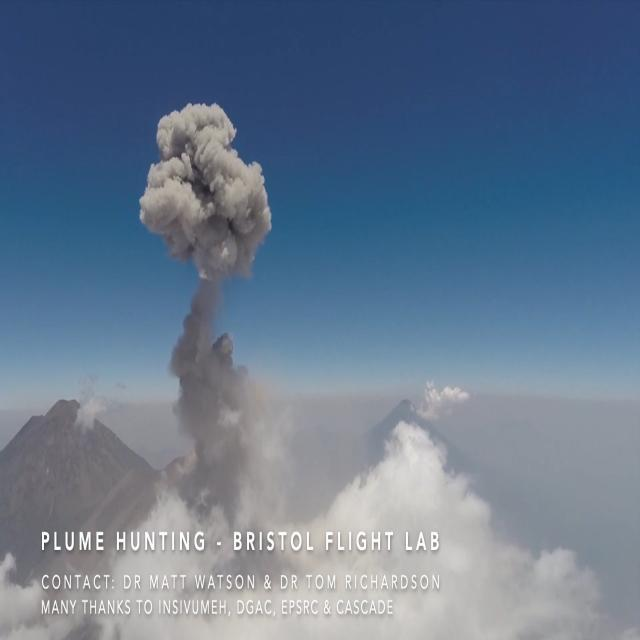Plume: (138, 94, 286, 302), (149, 286, 268, 499)
